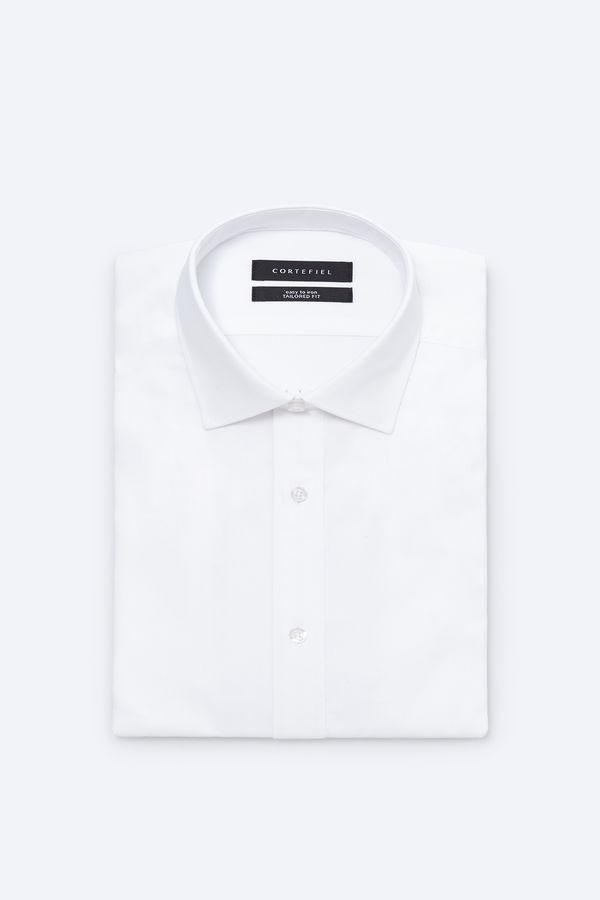teeshirt: (103, 206, 511, 766)
